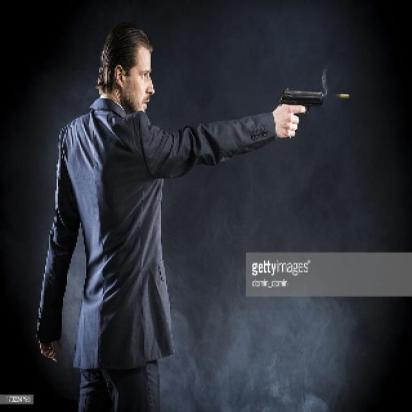Gun: (277, 85, 327, 110)
